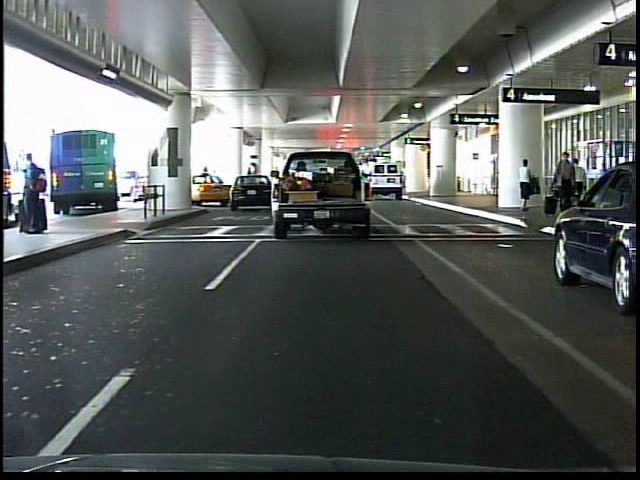person: (17, 142, 53, 239), (554, 147, 582, 210), (565, 156, 588, 221), (514, 155, 537, 213)
